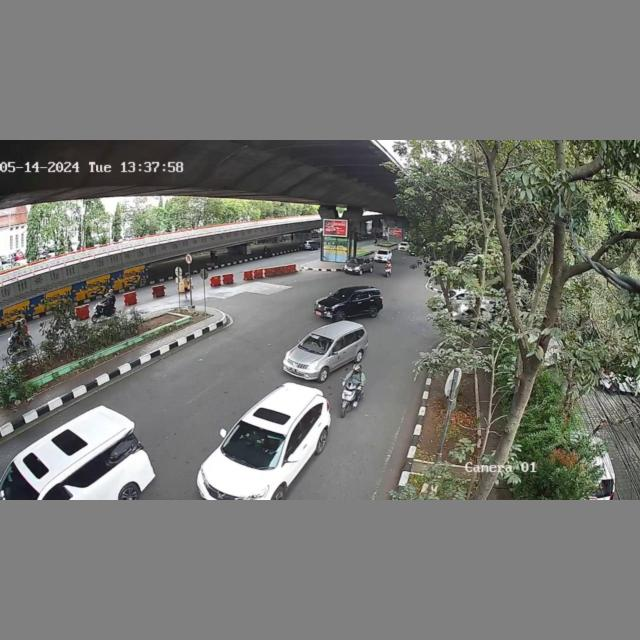windshield: (224, 418, 285, 469), (302, 333, 334, 354)
